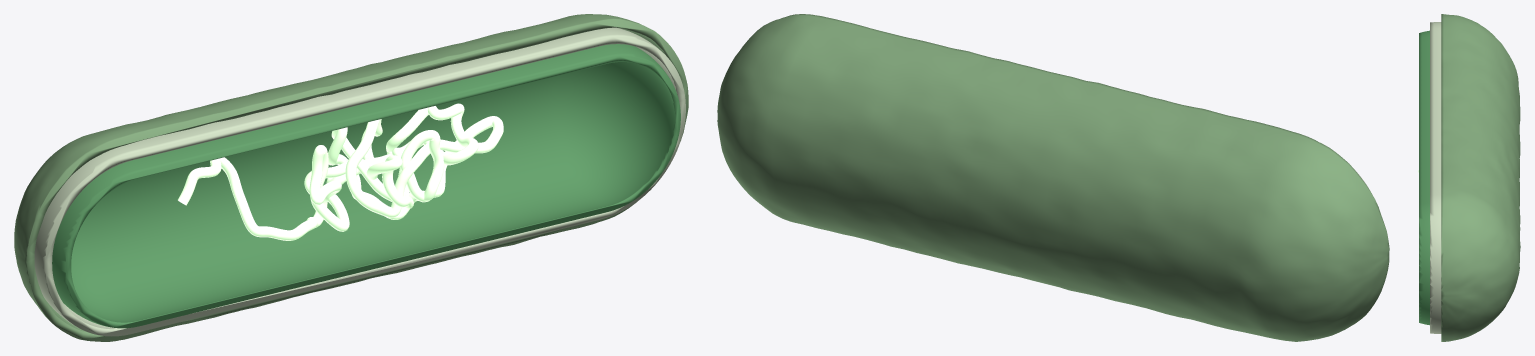
The model's file is MTB_bacillus_cutaway.glb.
The picture shows the model from 3 angles, left to right: view 1: azimuth 30°, elevation 25°; view 2: azimuth 150°, elevation 25°; view 3: azimuth 270°, elevation 25°; orthographic projection. The views are drawn at different scales.
Parts seen in each view (by area): view 1: shell_membrane, shell_outer, shell_wall, nucleoid.001; view 2: shell_outer; view 3: shell_outer, shell_wall, shell_membrane.
Part boxes in pixels (bbox=[...]): shell_membrane: bbox=[52, 44, 680, 328]; shell_outer: bbox=[14, 14, 688, 341]; shell_wall: bbox=[34, 27, 685, 336]; nucleoid.001: bbox=[178, 103, 503, 240]; shell_outer: bbox=[717, 14, 1389, 341]; shell_outer: bbox=[1441, 14, 1520, 341]; shell_wall: bbox=[1430, 22, 1441, 333]; shell_membrane: bbox=[1419, 30, 1429, 325].
Bounding box in the file's own units: 4.52 × 1.33 × 0.8322.
